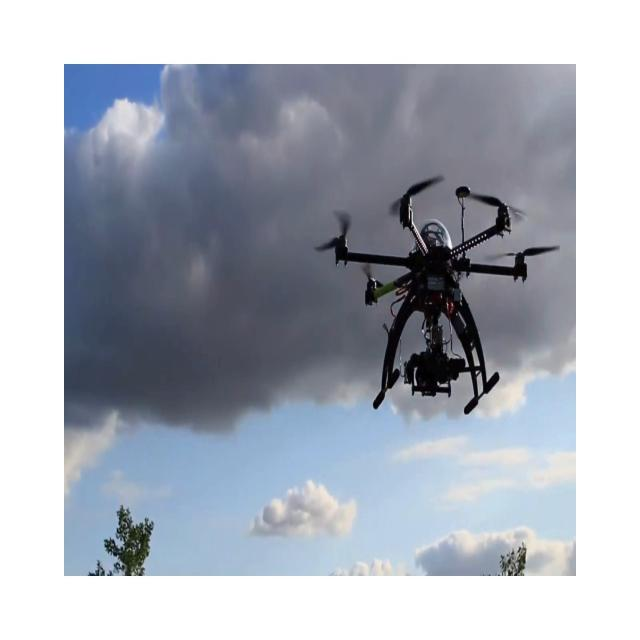drone: (313, 174, 560, 416)
